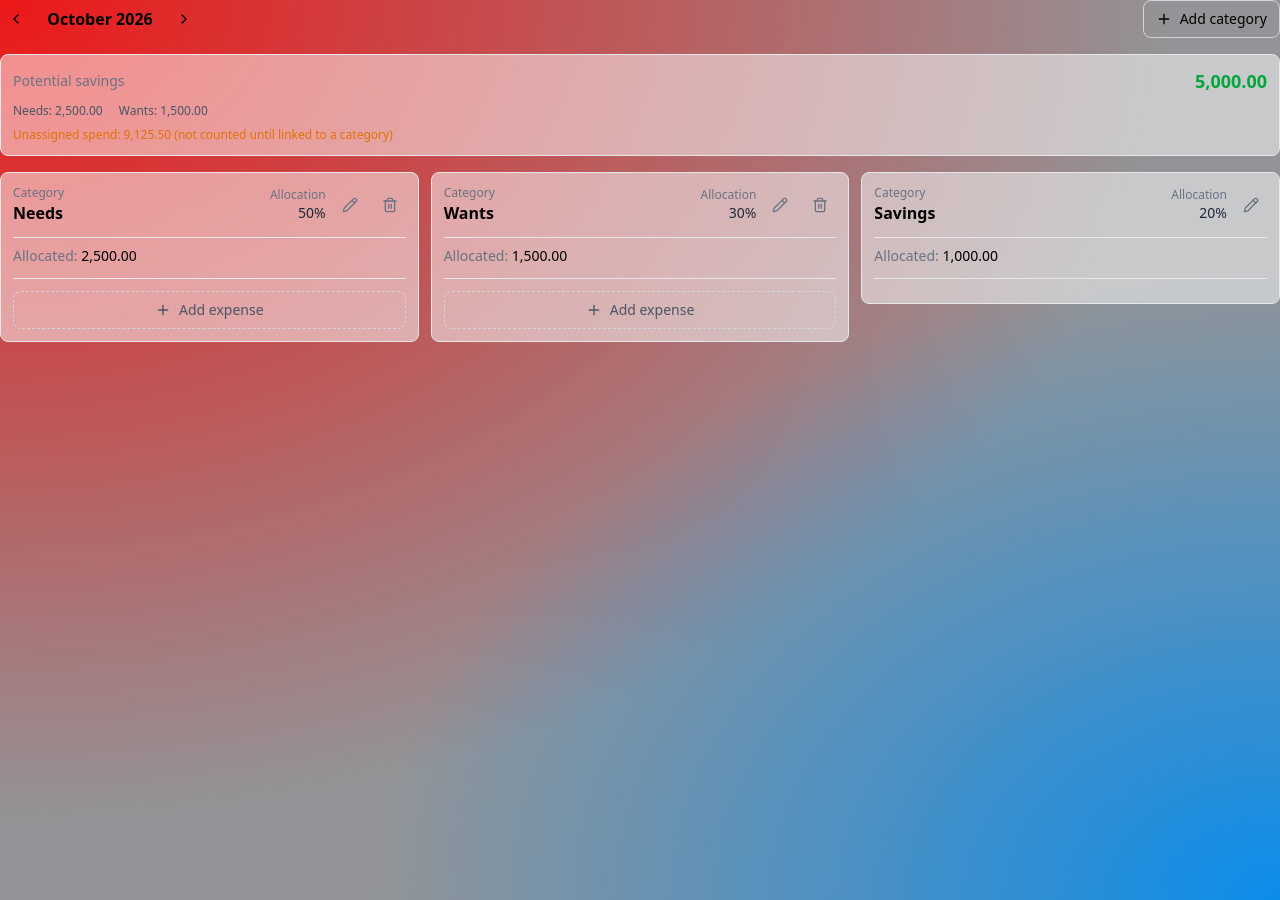
BudgetPlanner › shows a negative potential savings total when overspending exceeds the allocations
This screenshot has width=1280, height=900.
Click the 1st button "Add expense": (209, 310) [13,291,406,329]
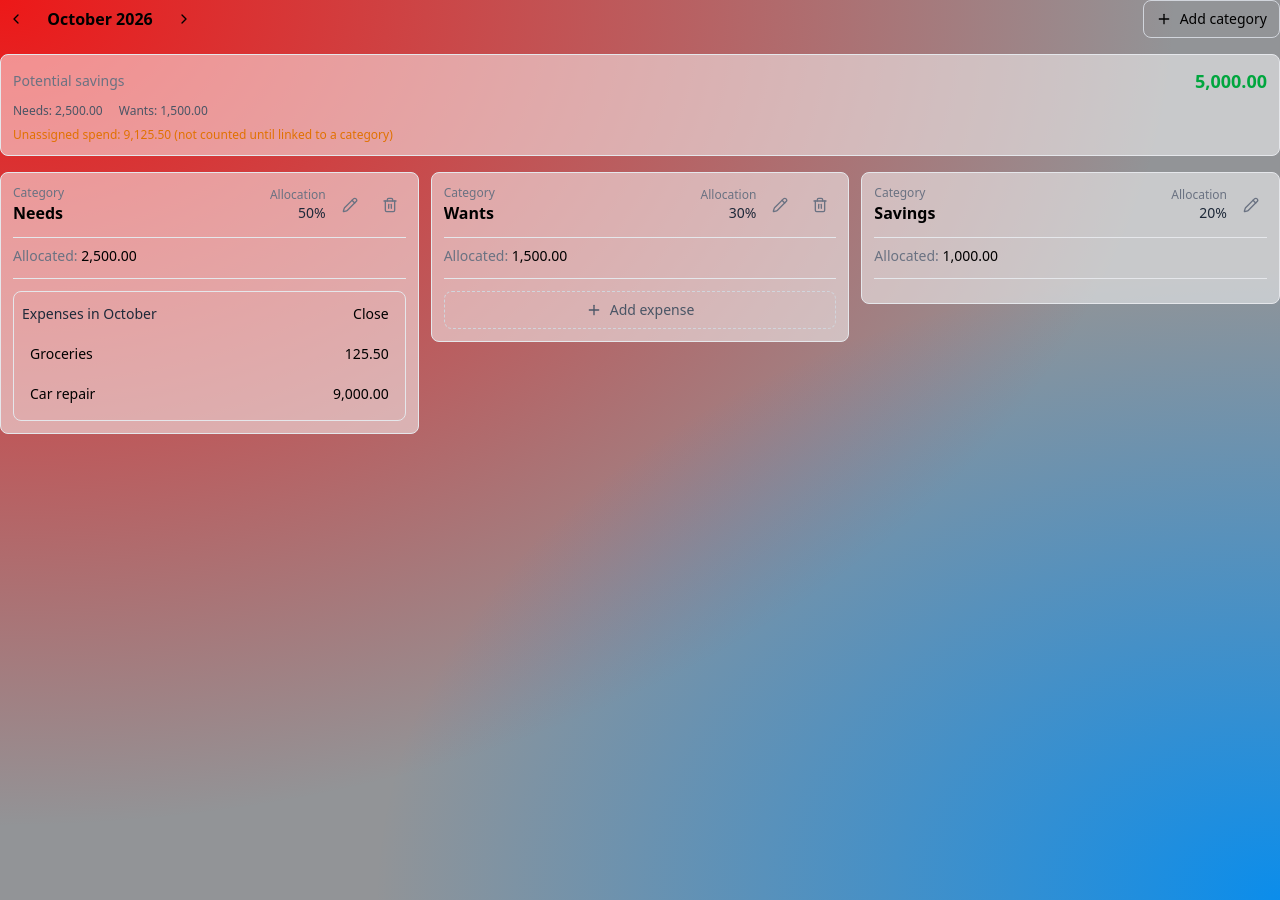
Click the button "Car repair 9,000.00": (63, 394) [22,376,397,412]
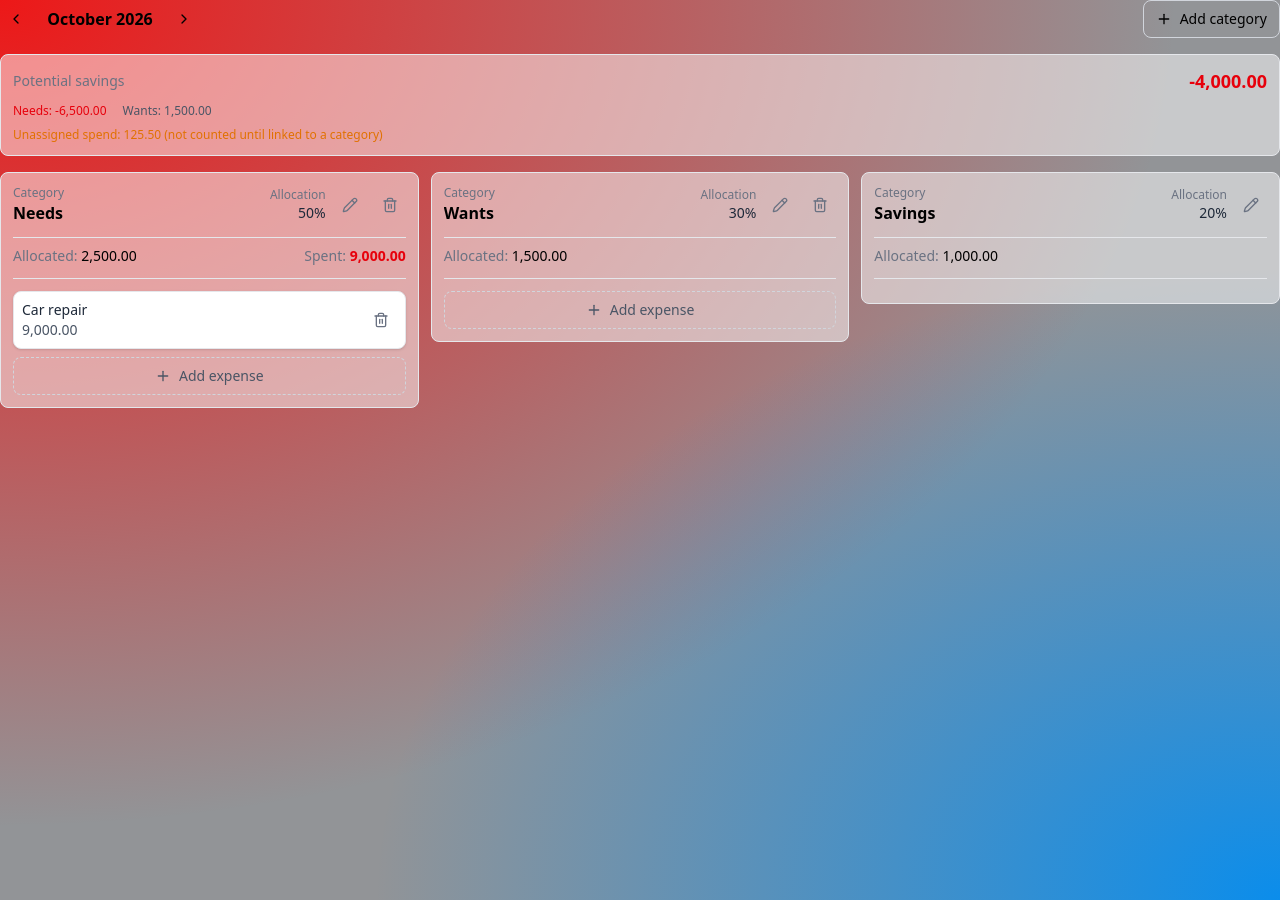
expect the element labelled "Potential savings" shows "-4,000.00": met, box [1189,69,1267,93]
